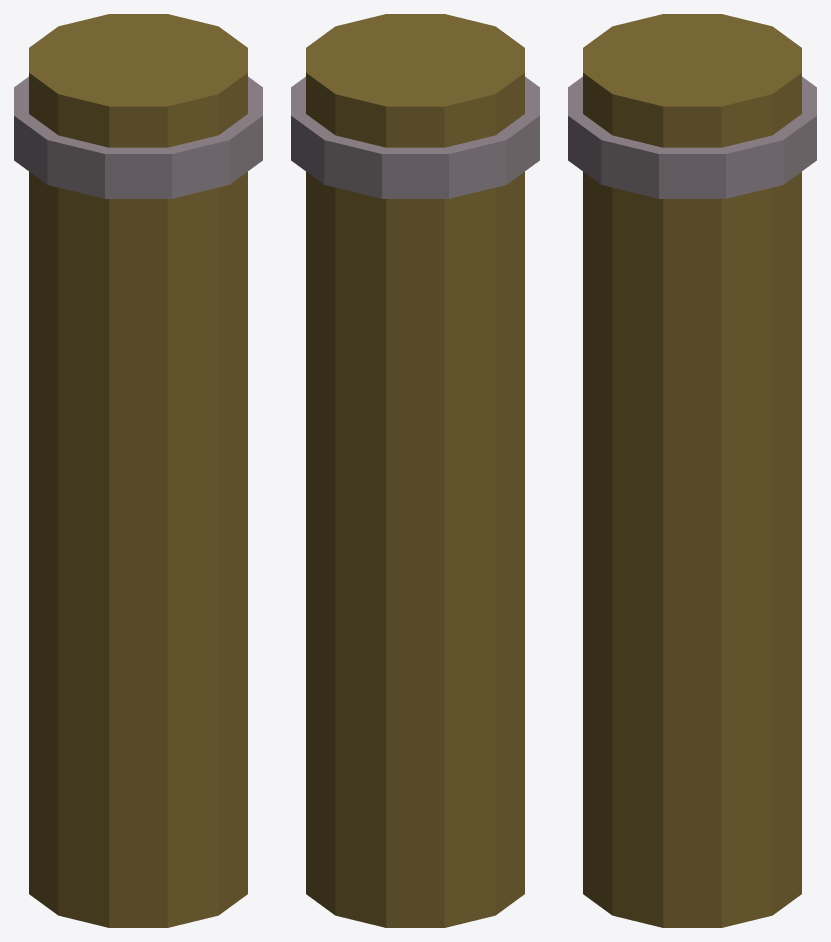
File: Log_Fence_Log.fbx
3 views of the same model, side by side, from view 1: azimuth 30°, elevation 25°; view 2: azimuth 150°, elevation 25°; view 3: azimuth 270°, elevation 25° (orthographic).
Parts seen in each view (by area): view 1: Fence_Log_Log; view 2: Fence_Log_Log; view 3: Fence_Log_Log.
Part boxes in pixels (<box>): Fence_Log_Log: <box>14,14,262,927</box>; Fence_Log_Log: <box>291,14,539,927</box>; Fence_Log_Log: <box>568,14,816,927</box>.
Bounding box in the file's own units: 54.93 × 200 × 54.93.
